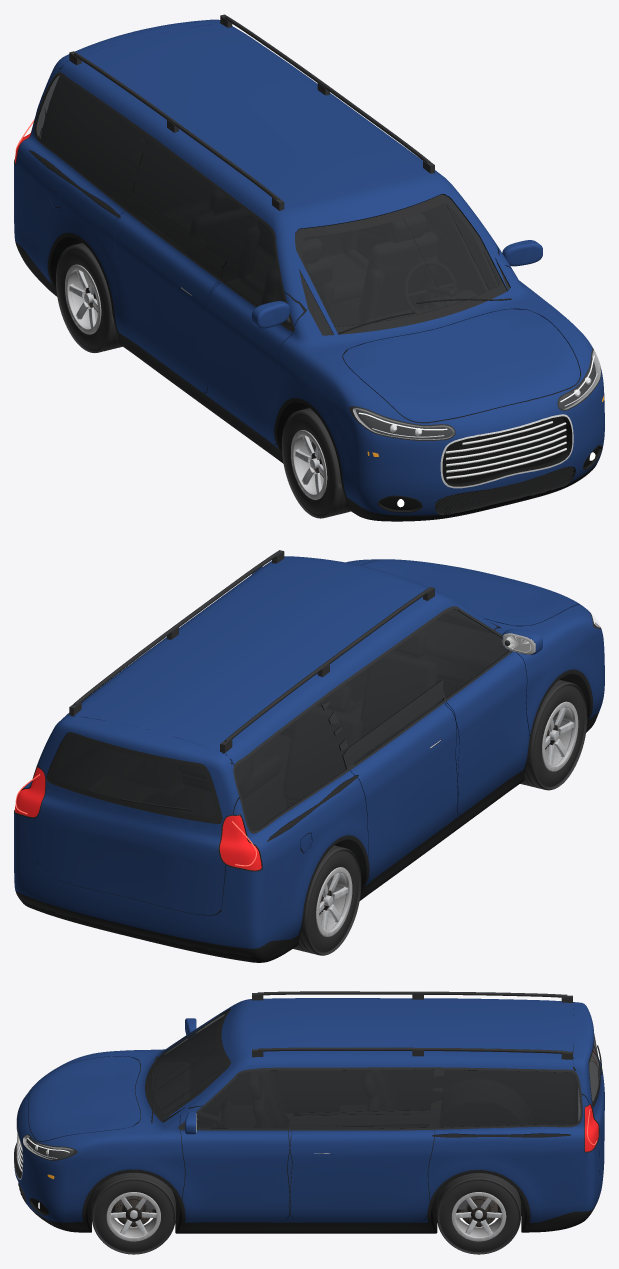
File: car_minivan.glb
3 renders of one model, top to bottom at view 1: azimuth 30°, elevation 25°; view 2: azimuth 150°, elevation 25°; view 3: azimuth 270°, elevation 25°, orthographic. The views are drawn at different scales.
Parts seen in each view (by area): view 1: body, wheel_FR, wheel_RR; view 2: body, wheel_FR, wheel_RR; view 3: body, wheel_FL, wheel_RL.
Part boxes in pixels (box(x1,y1,x2,y2)): body: box(14, 14, 604, 521); wheel_FR: box(281, 408, 350, 518); wheel_RR: box(56, 243, 122, 353); body: box(14, 550, 604, 962); wheel_FR: box(520, 679, 587, 790); wheel_RR: box(293, 845, 361, 955); body: box(14, 991, 604, 1233); wheel_FL: box(91, 1172, 175, 1254); wheel_RL: box(436, 1173, 521, 1254).
Size of the model in its own units: 2.2 by 1.81 by 5.15.
15 materials, 2 textured.
